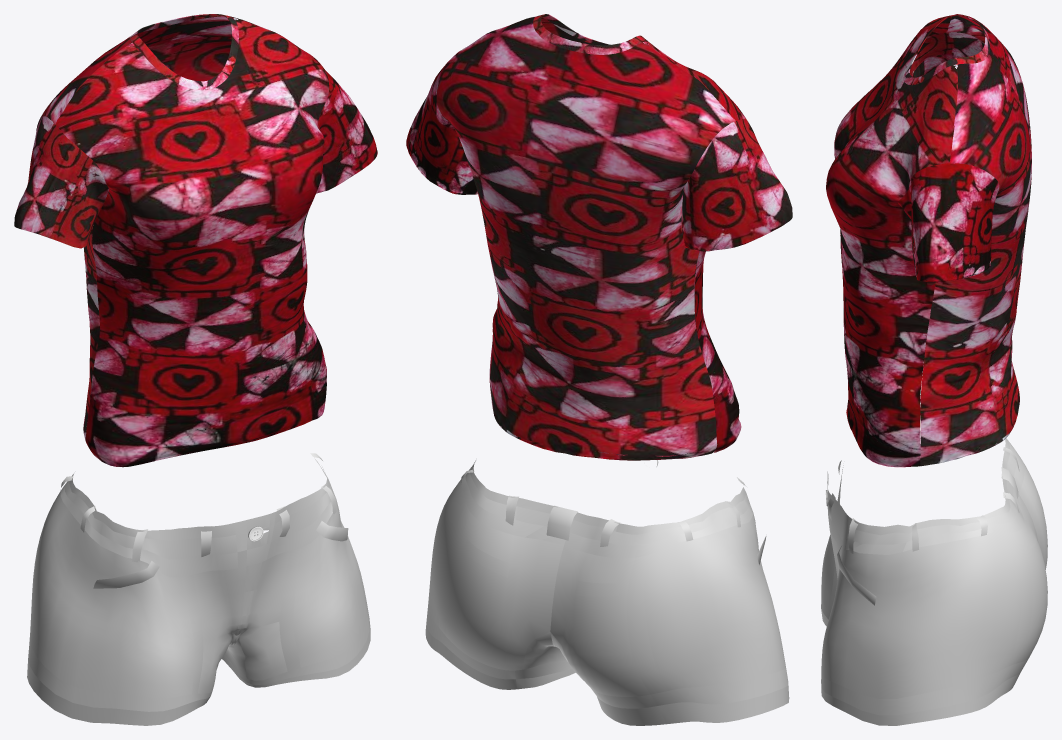
Rendered from tshirt_and_booty_shorts.glb.
The picture shows the model from 3 angles, left to right: view 1: azimuth 30°, elevation 25°; view 2: azimuth 150°, elevation 25°; view 3: azimuth 270°, elevation 25°; orthographic projection. The views are drawn at different scales.
Visible parts, largest first — view 1: all, all_two; view 2: all, all_two; view 3: all, all_two.
Part boxes in pixels (left/top/right/bottom): all: left=14, top=14, right=377, bottom=467; all_two: left=27, top=453, right=370, bottom=725; all: left=406, top=14, right=792, bottom=460; all_two: left=425, top=460, right=789, bottom=725; all: left=826, top=14, right=1031, bottom=467; all_two: left=821, top=438, right=1047, bottom=725.
Size of the model in its own units: 0.3837 by 0.6445 by 0.2104.
Materials: 1 (1 with a texture image).
